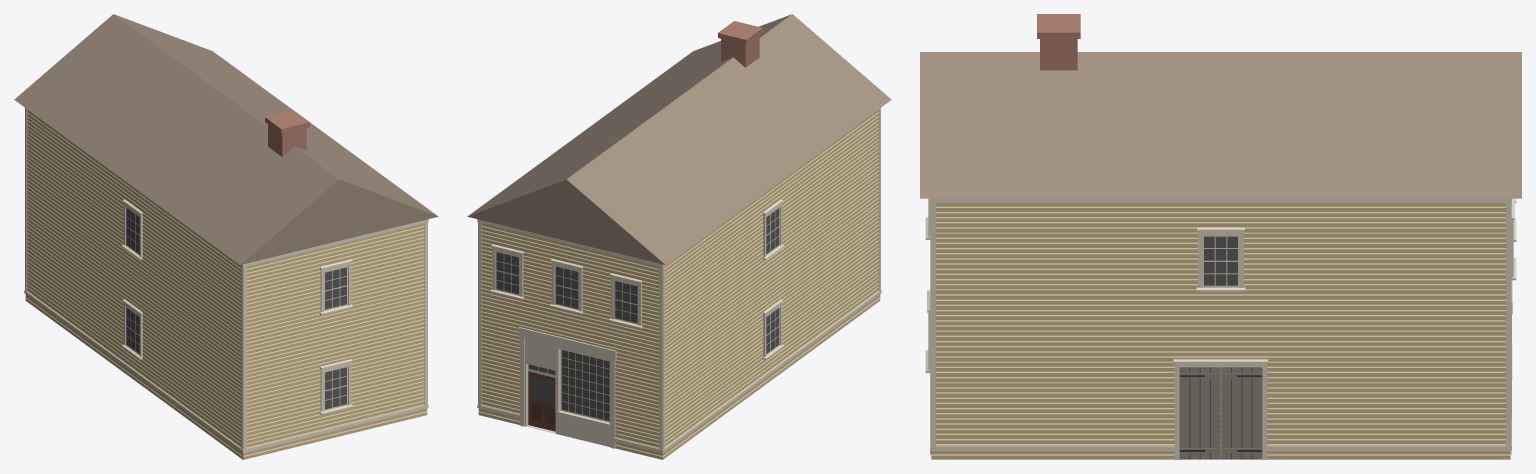
The model's file is recon_1835_core_c3_050__inferred_1835.glb.
3 views of the same model, side by side, from view 1: azimuth 30°, elevation 25°; view 2: azimuth 150°, elevation 25°; view 3: azimuth 270°, elevation 25° (orthographic). The views are drawn at different scales.
Parts seen in each view (by area): view 1: recon_1835_core_c3_050__inferred_1835; view 2: recon_1835_core_c3_050__inferred_1835; view 3: recon_1835_core_c3_050__inferred_1835.
Boxes of the visible parts, bbox=[...] form: recon_1835_core_c3_050__inferred_1835: bbox=[14, 14, 438, 459]; recon_1835_core_c3_050__inferred_1835: bbox=[467, 14, 891, 459]; recon_1835_core_c3_050__inferred_1835: bbox=[920, 14, 1521, 459].
Size of the model in its own units: 6.81 by 9.27 by 13.42.
